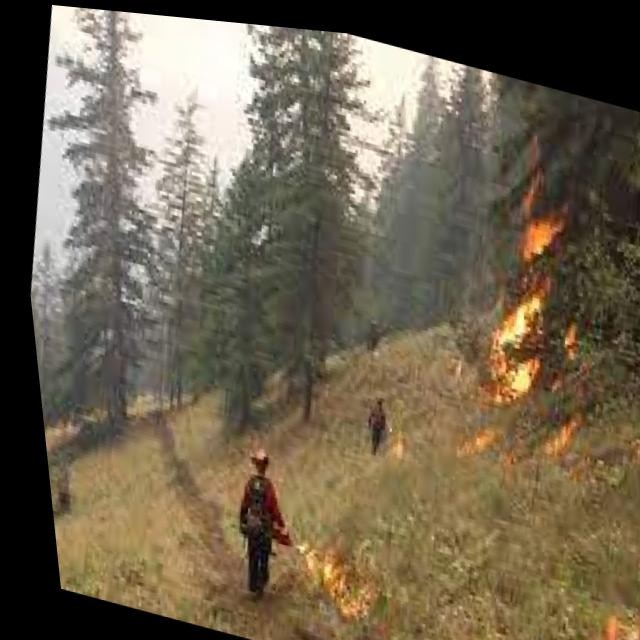Fire: (408, 73, 640, 498), (264, 523, 386, 621), (457, 586, 640, 640)
